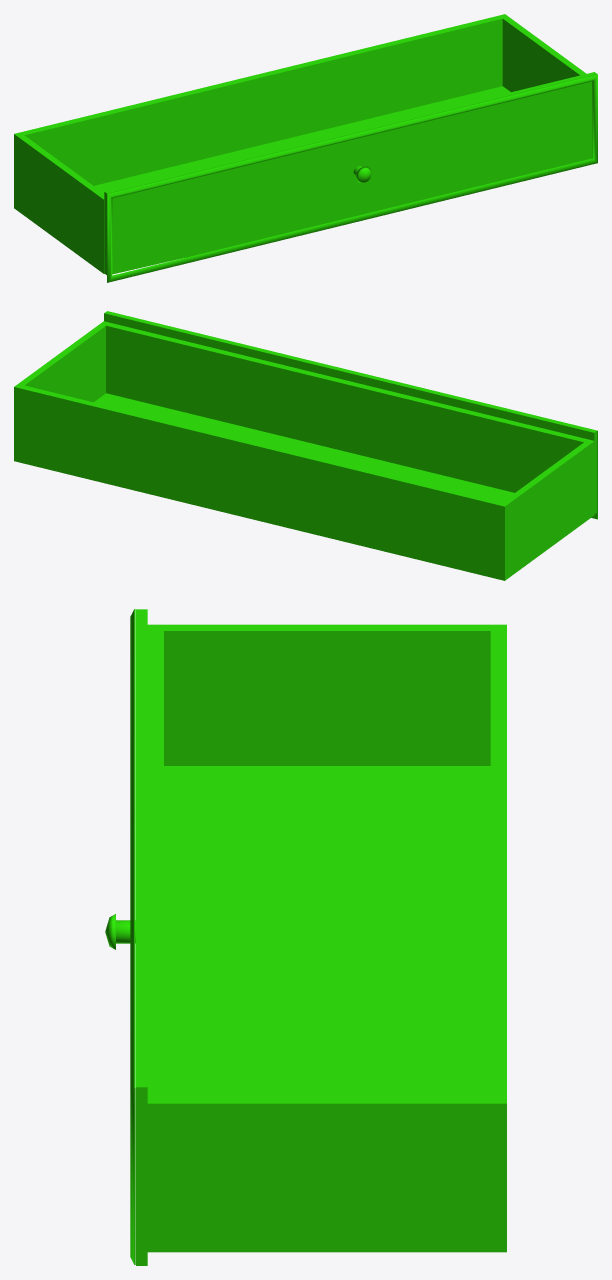
Rendered from Cupboard_01_Drawer_Lod0.fbx.
The picture shows the model from 3 angles, top to bottom: view 1: azimuth 30°, elevation 25°; view 2: azimuth 150°, elevation 25°; view 3: azimuth 270°, elevation 25°; orthographic projection. The views are drawn at different scales.
Visible parts, largest first — view 1: Cupboard_01_Drawer_Lod0; view 2: Cupboard_01_Drawer_Lod0; view 3: Cupboard_01_Drawer_Lod0.
Boxes of the visible parts, bbox=[...] form: Cupboard_01_Drawer_Lod0: bbox=[14, 14, 597, 282]; Cupboard_01_Drawer_Lod0: bbox=[14, 311, 597, 580]; Cupboard_01_Drawer_Lod0: bbox=[105, 609, 506, 1265].
Size of the model in its own units: 120 by 20.83 by 42.52.
